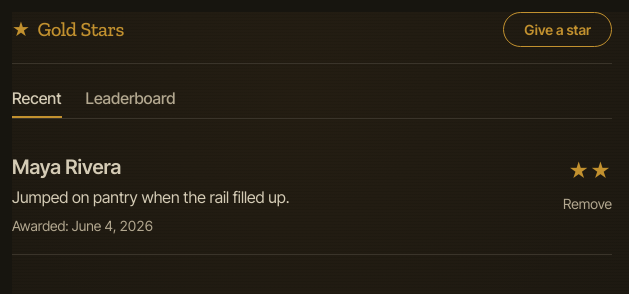
Test: GoldStarBoard › removes a star after the manager confirms
Click the button "Remove". click: (588, 204)
box: [563, 195, 612, 212]
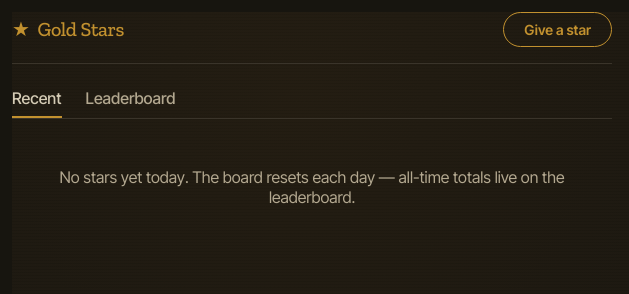
Check: the text "Jumped on pantry" is gone
